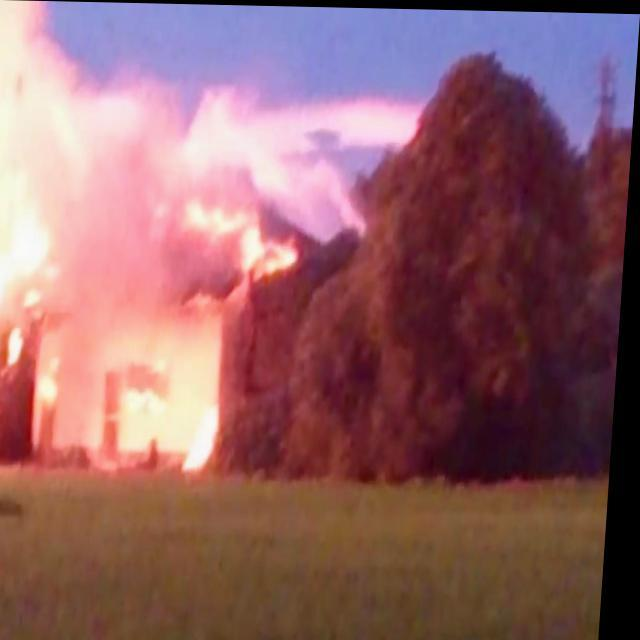Fire: (0, 6, 78, 323), (189, 199, 303, 273), (185, 401, 225, 476), (37, 372, 67, 405), (10, 326, 29, 366), (0, 386, 1, 436)
